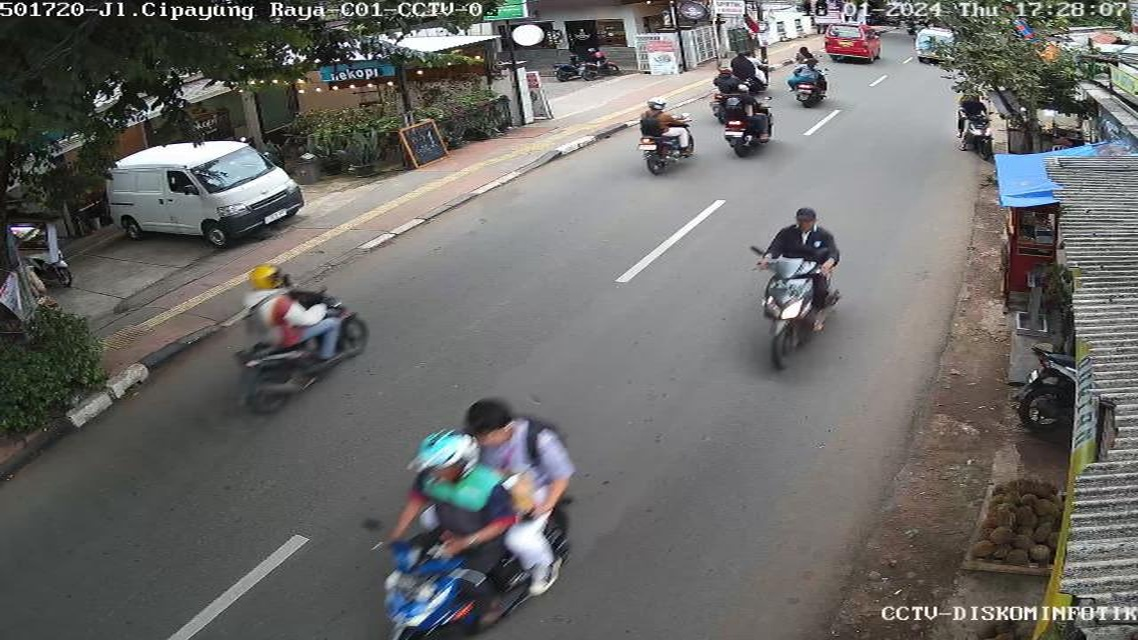Gerobak: (985, 169, 1074, 309)
